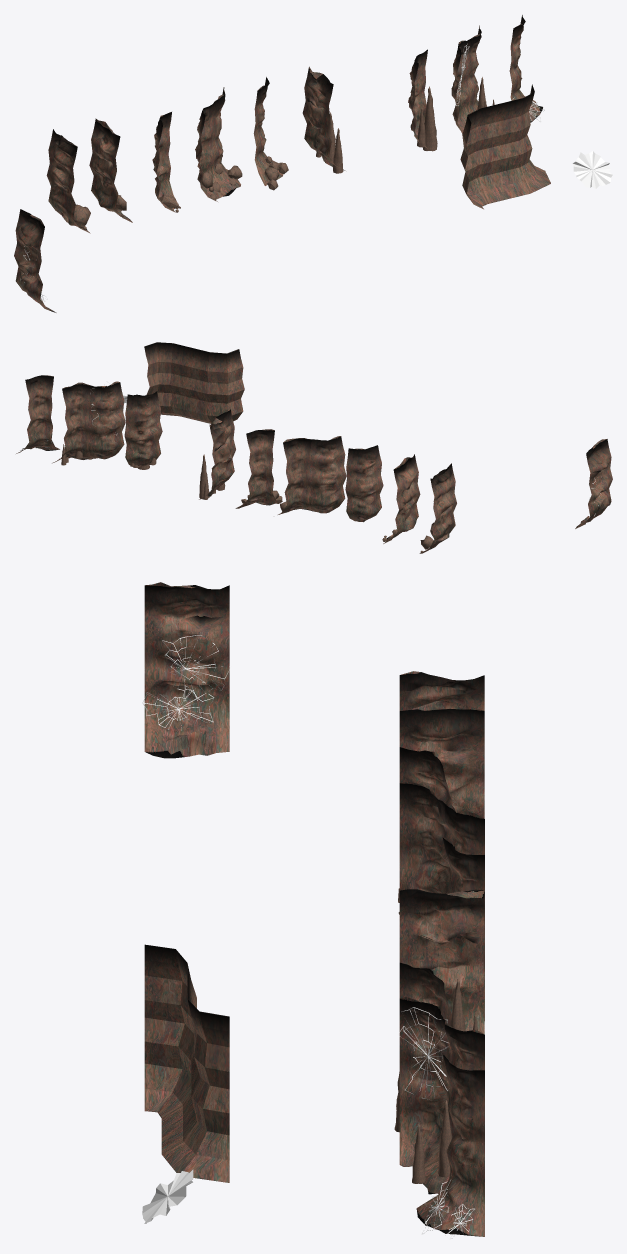
Rendered from cave_walls.glb.
3 views of the same model, one above another, from view 1: azimuth 30°, elevation 25°; view 2: azimuth 150°, elevation 25°; view 3: azimuth 270°, elevation 25° (orthographic). The views are drawn at different scales.
Parts seen in each view (by area): view 1: Plane, cave_straight_stalag, cave_straight1, cave_straight2, cave_straight_web, cave_concave_stalag, cave_concave1, Plane.001, cave_concave2, cave_convex2, cave_convex1, Plane.002 (+4 smaller); view 2: Plane, cave_concave_stalag, cave_concave_web, cave_concave2, cave_concave1, Plane.001, cave_convex2, cave_convex_stalag, cave_straight_stalag, cave_convex_web, cave_convex1, cave_straight1 (+3 smaller); view 3: cave_straight_web, cave_straight_stalag, Plane.001, cave_concave_web, cave_convex_web, Plane.002, cave_straight2, cave_concave2, cave_convex_stalag, cave_straight1, cave_concave_stalag, cave_concave1 (+6 smaller).
Part boxes in pixels (<box>): Plane: <box>477,98,530,203</box>; cave_straight_stalag: <box>302,66,345,173</box>; cave_straight1: <box>46,129,90,233</box>; cave_straight2: <box>89,118,132,222</box>; cave_straight_web: <box>14,209,56,312</box>; cave_concave_stalag: <box>408,49,437,151</box>; cave_concave1: <box>152,112,180,212</box>; Plane.001: <box>460,108,487,209</box>; cave_concave2: <box>195,102,222,201</box>; cave_convex2: <box>253,77,288,190</box>; cave_convex1: <box>211,87,242,196</box>; Plane.002: <box>519,84,550,193</box>; Plane: <box>170,343,211,423</box>; cave_concave_stalag: <box>124,391,162,469</box>; cave_concave_web: <box>87,381,125,459</box>; cave_concave2: <box>308,436,346,513</box>; cave_concave1: <box>345,445,383,522</box>; Plane.001: <box>206,349,244,422</box>; cave_convex2: <box>235,429,282,508</box>; cave_convex_stalag: <box>52,382,96,465</box>; cave_straight_stalag: <box>199,409,235,499</box>; cave_convex_web: <box>16,375,59,453</box>; cave_convex1: <box>278,438,317,514</box>; cave_straight1: <box>419,463,456,553</box>; cave_straight_web: <box>144,582,229,758</box>; cave_straight_stalag: <box>399,889,484,1034</box>; Plane.001: <box>144,944,193,1118</box>; cave_concave_web: <box>399,997,451,1166</box>; cave_convex_web: <box>416,1053,484,1236</box>; Plane.002: <box>161,999,229,1182</box>; cave_straight2: <box>399,701,484,818</box>; cave_concave2: <box>399,781,451,893</box>; cave_convex_stalag: <box>412,1017,484,1194</box>; cave_straight1: <box>399,671,484,710</box>; cave_concave_stalag: <box>394,962,451,1132</box>; cave_concave1: <box>398,747,451,914</box>.
Size of the model in its own units: 28.09 by 4.54 by 8.06.
Materials: 4 (2 with a texture image).
